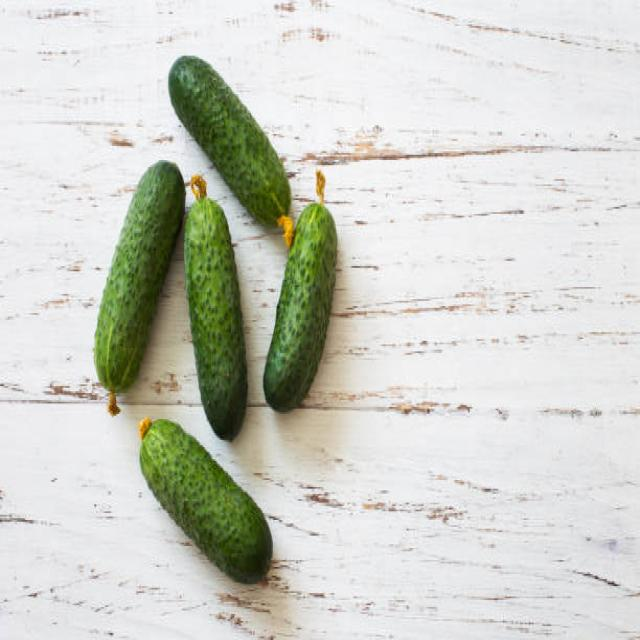cucumber: (167, 51, 293, 230), (140, 418, 274, 586), (93, 155, 186, 395), (262, 201, 339, 414), (183, 197, 248, 442)
